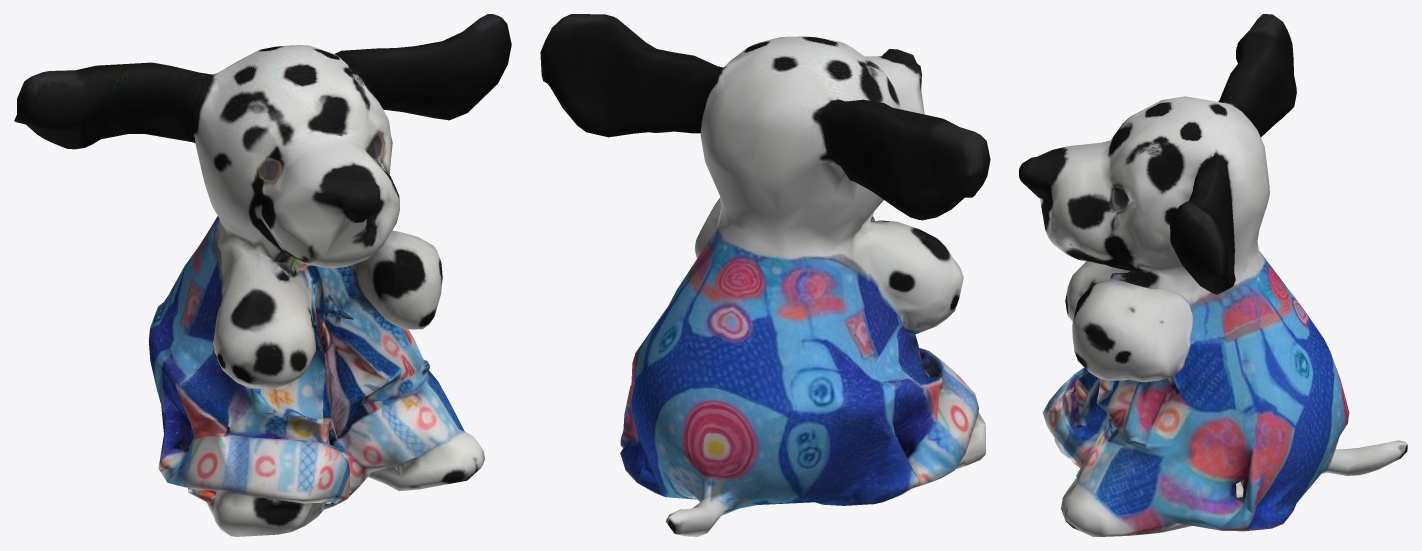
File: dalmatian.glb
3 renders of one model, left to right at view 1: azimuth 30°, elevation 25°; view 2: azimuth 150°, elevation 25°; view 3: azimuth 270°, elevation 25°, orthographic. The views are drawn at different scales.
Size of the model in its own units: 2 by 1.73 by 1.62.
Materials: 1 (1 with a texture image).
